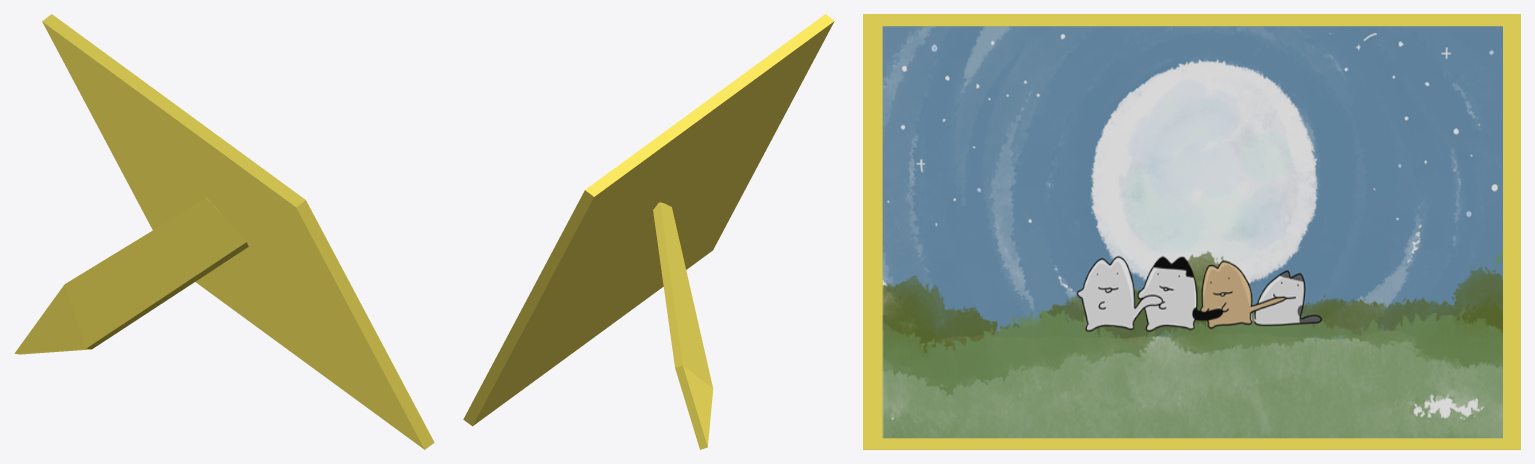
File: PhotoFrame.fbx
The picture shows the model from 3 angles, left to right: view 1: azimuth 30°, elevation 25°; view 2: azimuth 150°, elevation 25°; view 3: azimuth 270°, elevation 25°; orthographic projection. The views are drawn at different scales.
Parts seen in each view (by area): view 1: 큐브; view 2: 큐브; view 3: 큐브.
Part boxes in pixels (left/top/right/bottom): 큐브: left=14, top=14, right=434, bottom=449; 큐브: left=463, top=14, right=834, bottom=449; 큐브: left=863, top=14, right=1520, bottom=449.
Bounding box in the file's own units: 1.68 × 2.19 × 3.48.
